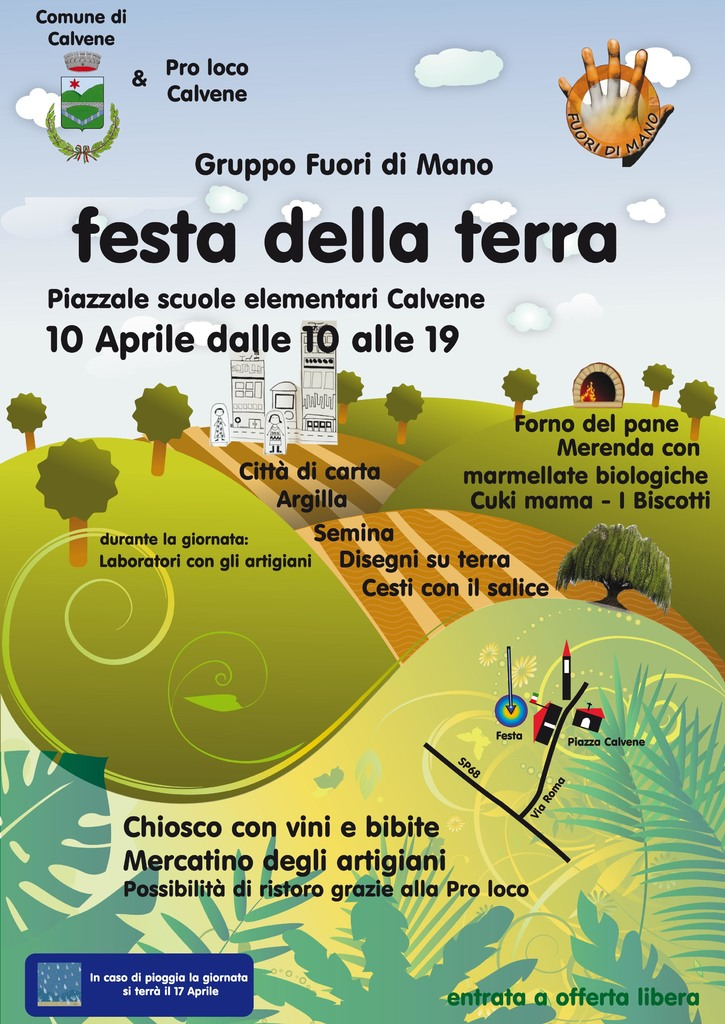Tree: (553, 516, 670, 611), (32, 438, 118, 565), (132, 383, 192, 477), (384, 383, 424, 445), (676, 381, 715, 441), (8, 391, 46, 450), (501, 369, 538, 420), (334, 369, 362, 421), (639, 362, 670, 404)
